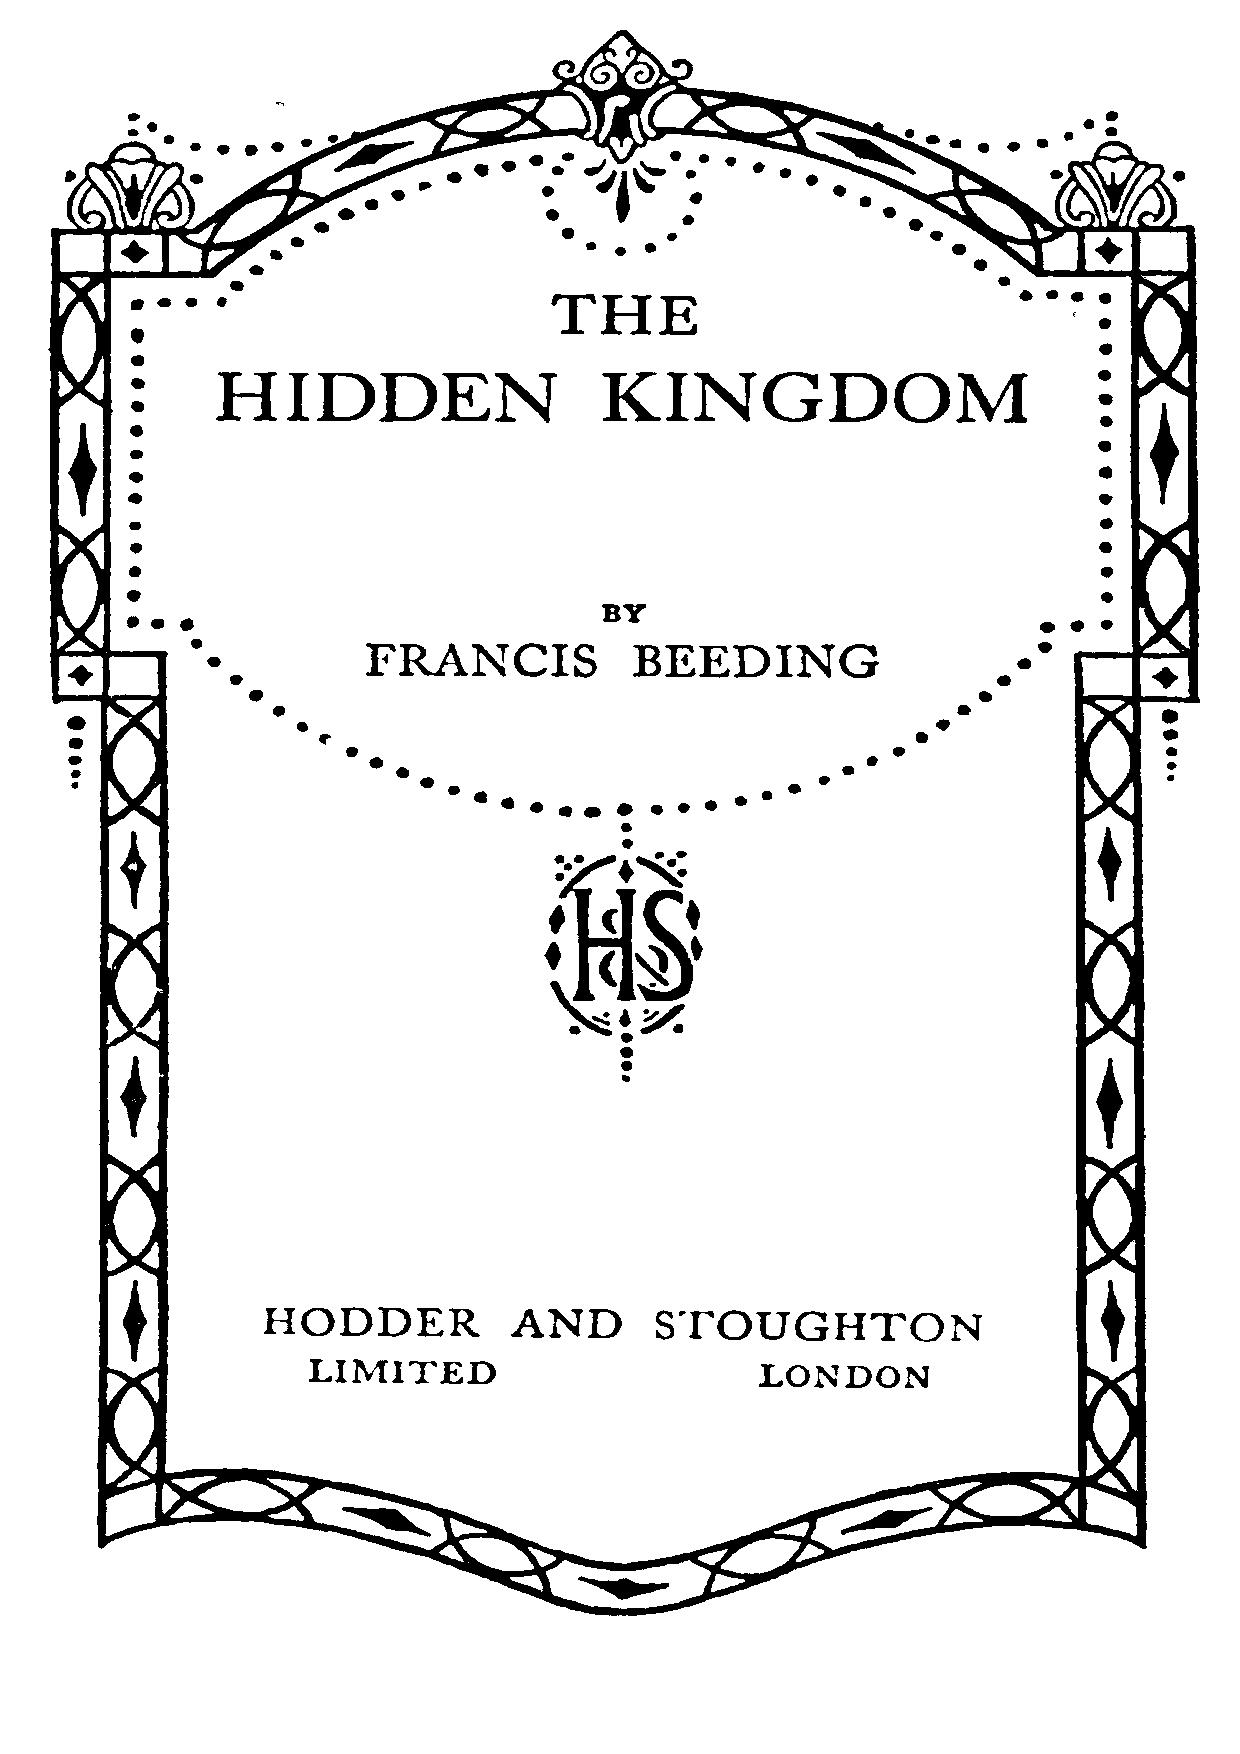author: (360, 597, 880, 679)
title: (211, 290, 1029, 421)
